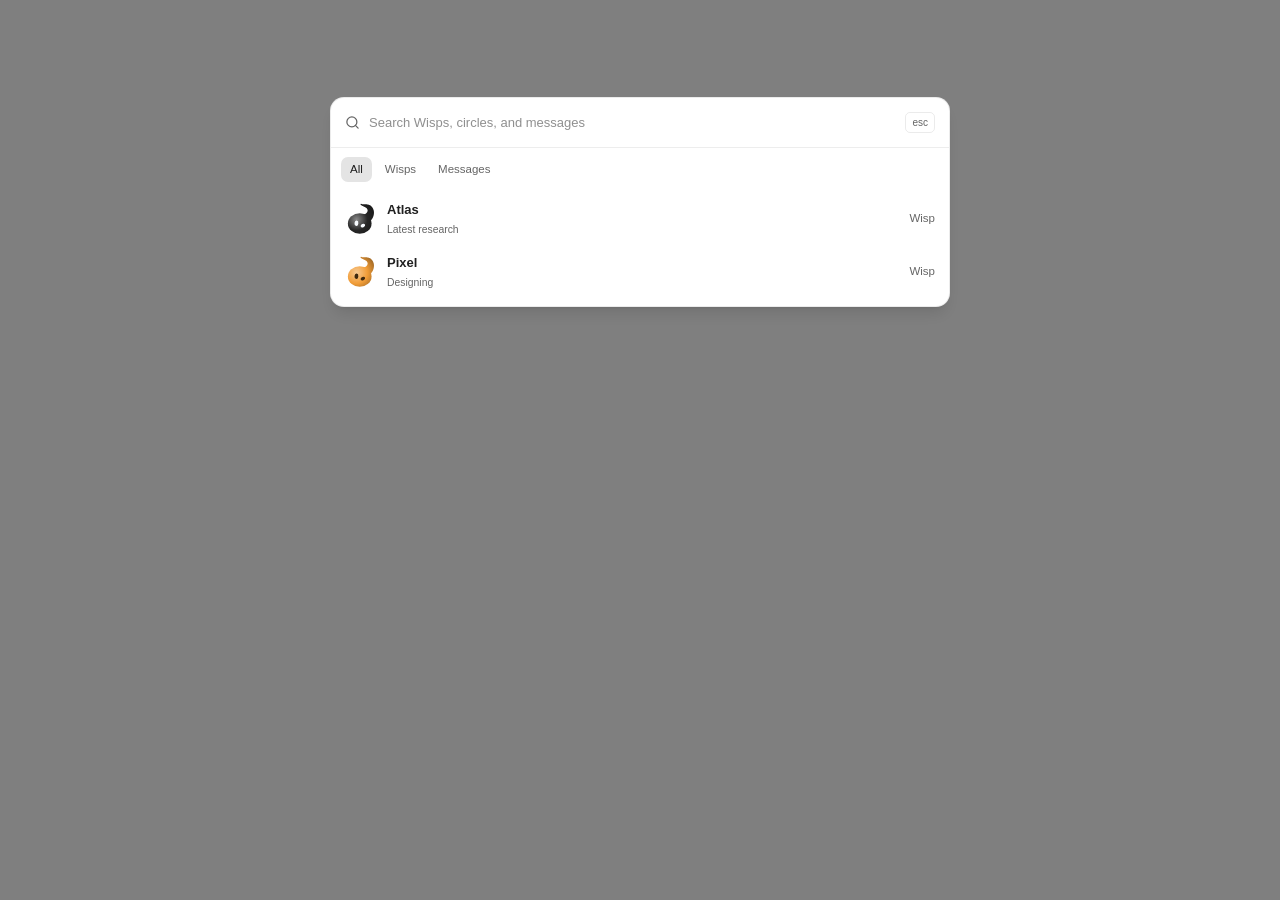
SearchDialog › says when nothing matches
Type "zebra" into the field labelled "Search".
click(633, 123); type("zebra")  # box x1=369 y1=113 x2=896 y2=132
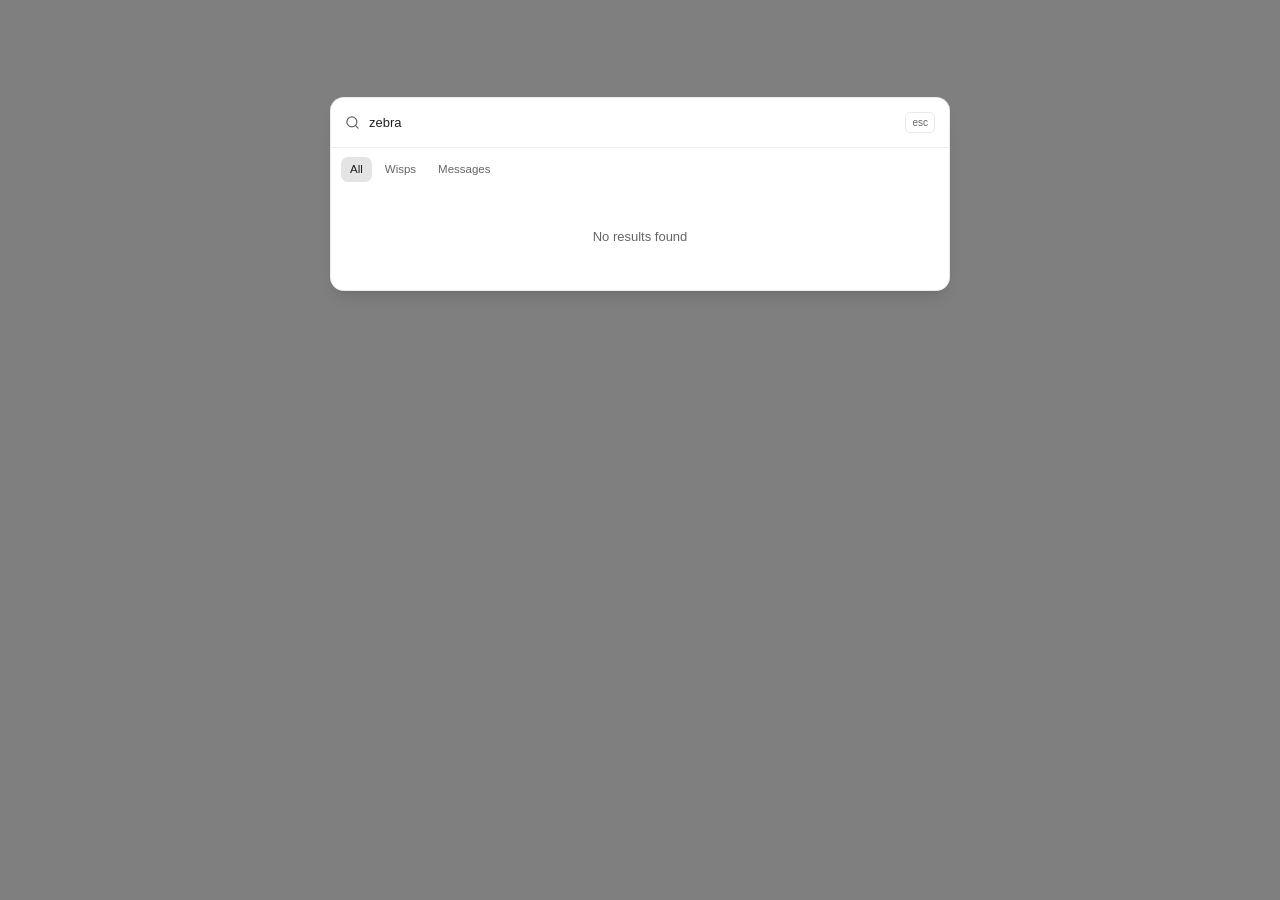
Expected: the text "No results found" is shown, x1=593 y1=229 x2=687 y2=244
